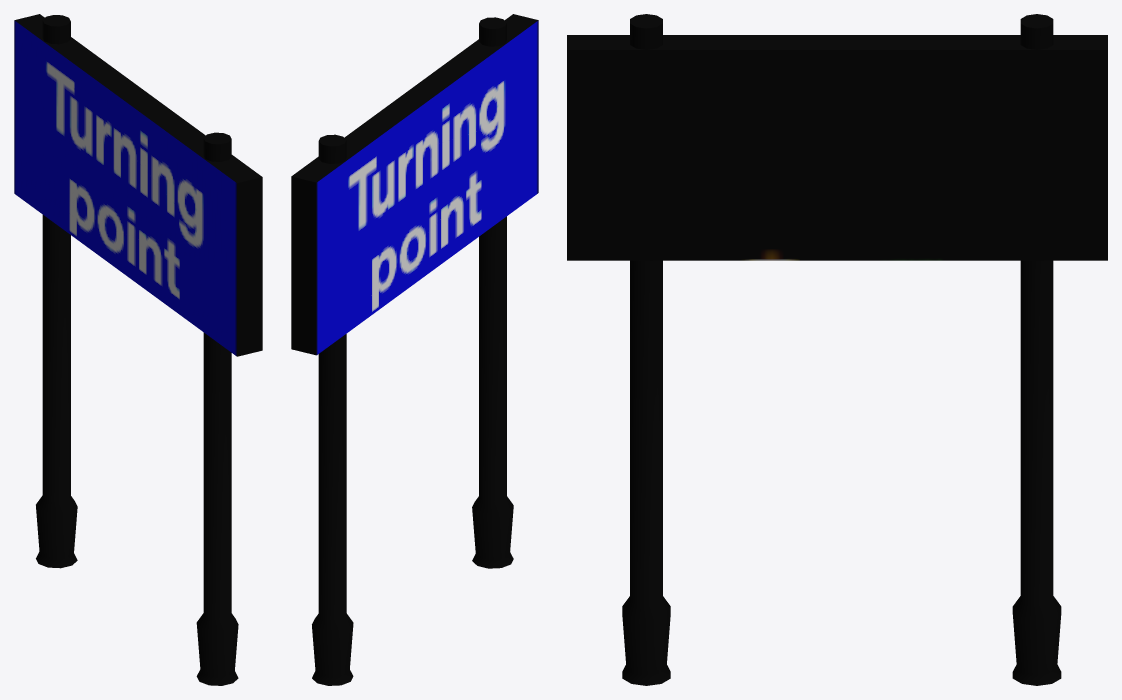
The picture shows the model from 3 angles, left to right: view 1: azimuth 30°, elevation 25°; view 2: azimuth 150°, elevation 25°; view 3: azimuth 270°, elevation 25°; orthographic projection. The views are drawn at different scales.
Parts seen in each view (by area): view 1: Cylinder002; view 2: Cylinder002; view 3: Cylinder002.
Boxes of the visible parts, x1,y1,x2,y2 form: Cylinder002: (14, 14, 262, 685); Cylinder002: (291, 14, 538, 685); Cylinder002: (567, 14, 1107, 685).
Size of the model in its own units: 1.42 by 20.01 by 15.
